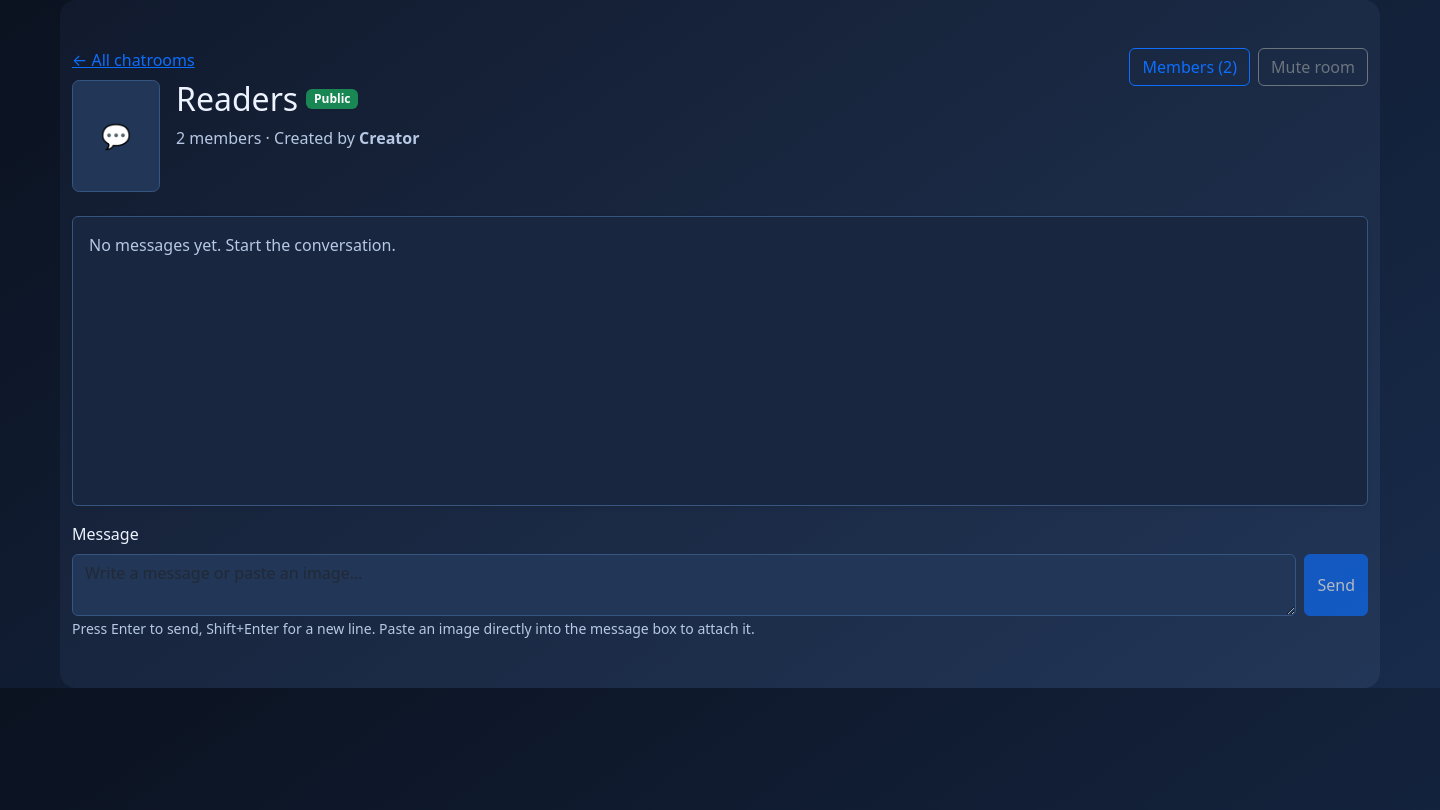
Test: ChatRoomPage › does not show room settings to a member who is not the creator
Expected: the heading "Readers" is shown, [176,80,298,118]
Step 1. Click the button "Members (2)" → (1190,67), box [1130,48,1250,86]
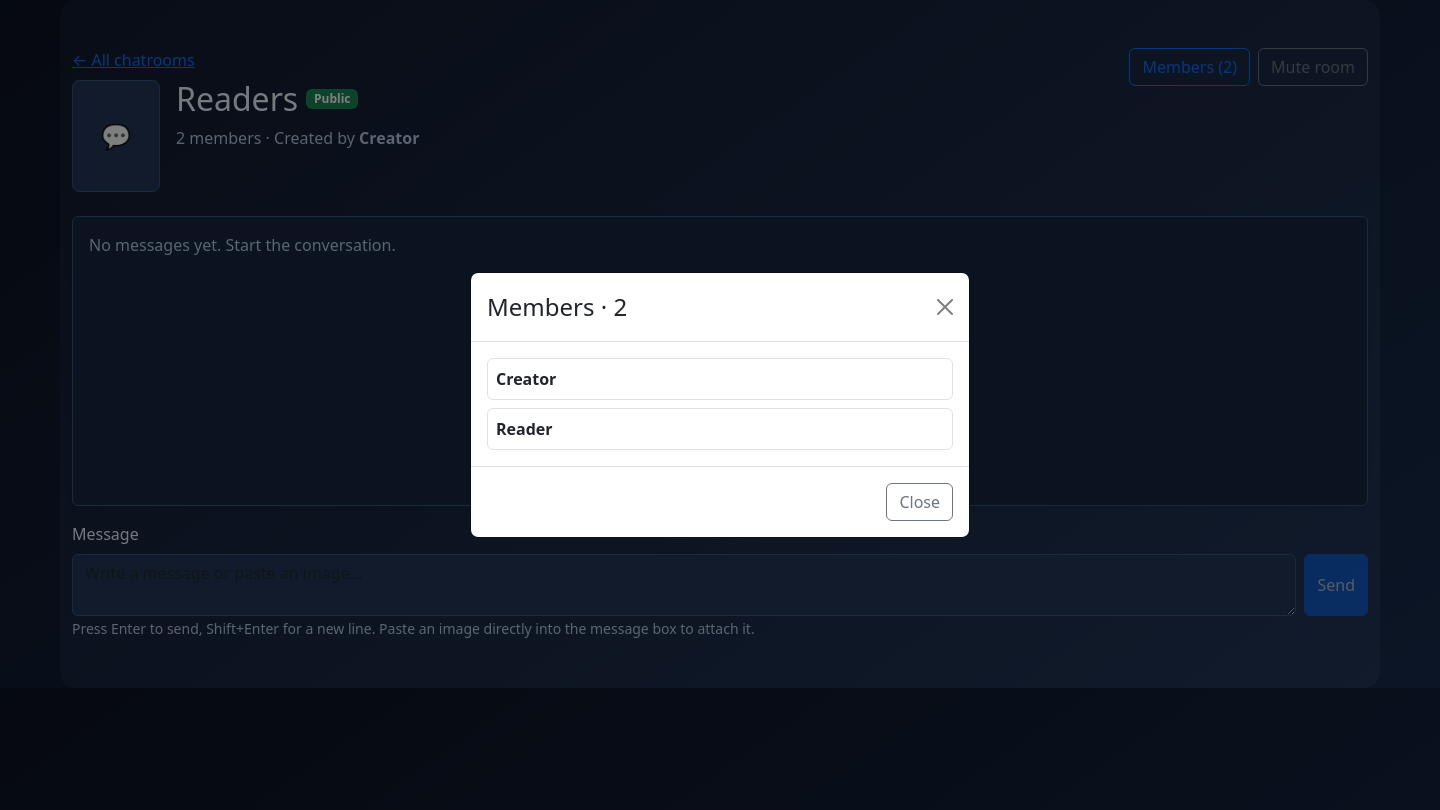
Expected: the text "Members · 2" is shown, [487,289,627,325]
